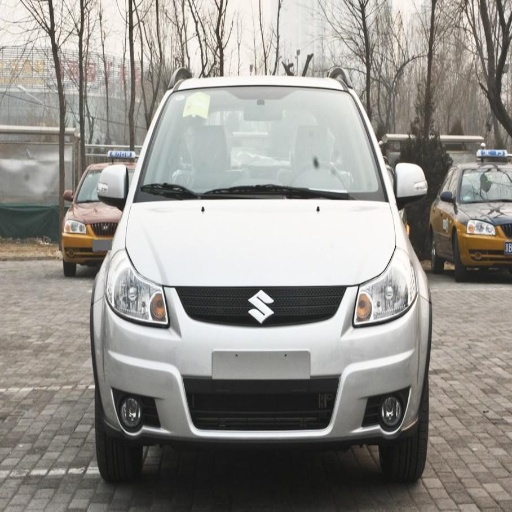front_bumper: (103, 284, 428, 443)
front_right_light: (106, 254, 171, 326)
hood: (127, 201, 395, 285)
left_mirror: (395, 163, 428, 206)
